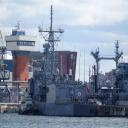Fragata: (30, 28, 99, 119)
